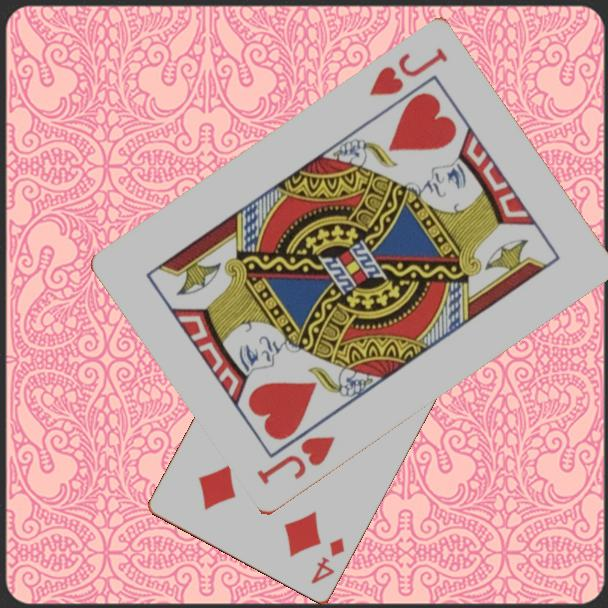d04: (308, 534, 348, 588)
h11: (253, 433, 339, 489), (365, 44, 451, 100)
